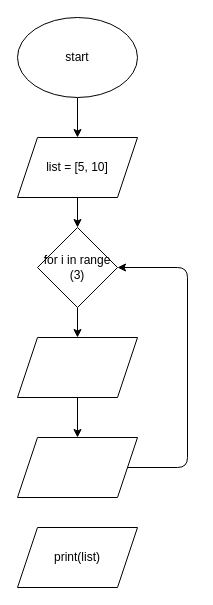
This 213x605 diagram has some shape labels left out. The shapes that lost their labels are listed below. From the top down, each one's box as (x1, y1, x2, y2) in pixels, then its label:
(16, 336, 138, 398): x = list[ 0 + i ] + list[ 1 + i ]
(16, 436, 138, 498): list.append(x)
